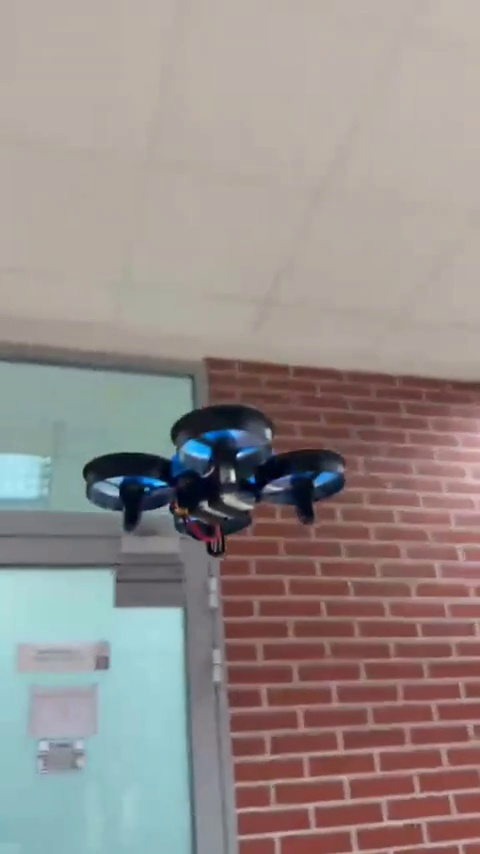drone: (74, 406, 349, 563)
